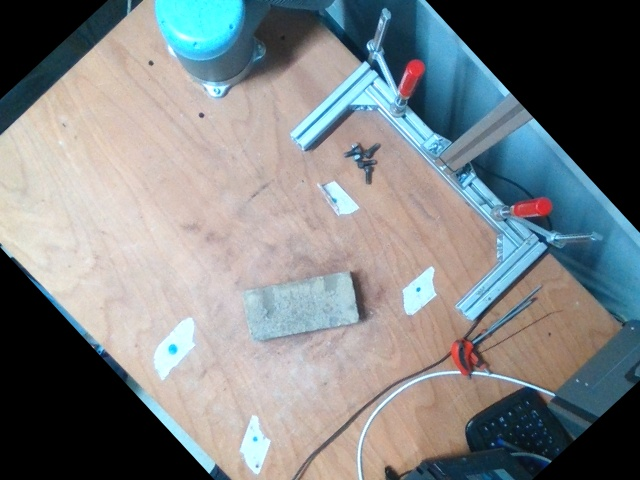brick: (245, 275, 358, 341)
